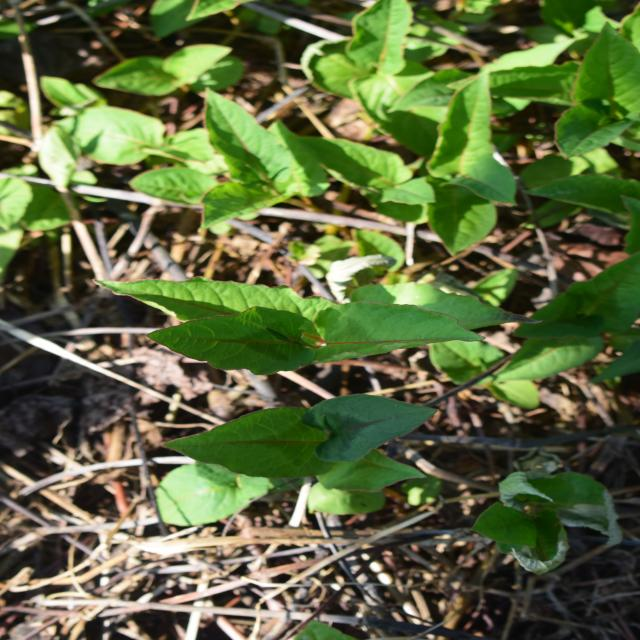Chinese_knotweed: (259, 122, 397, 475), (136, 140, 253, 451)
